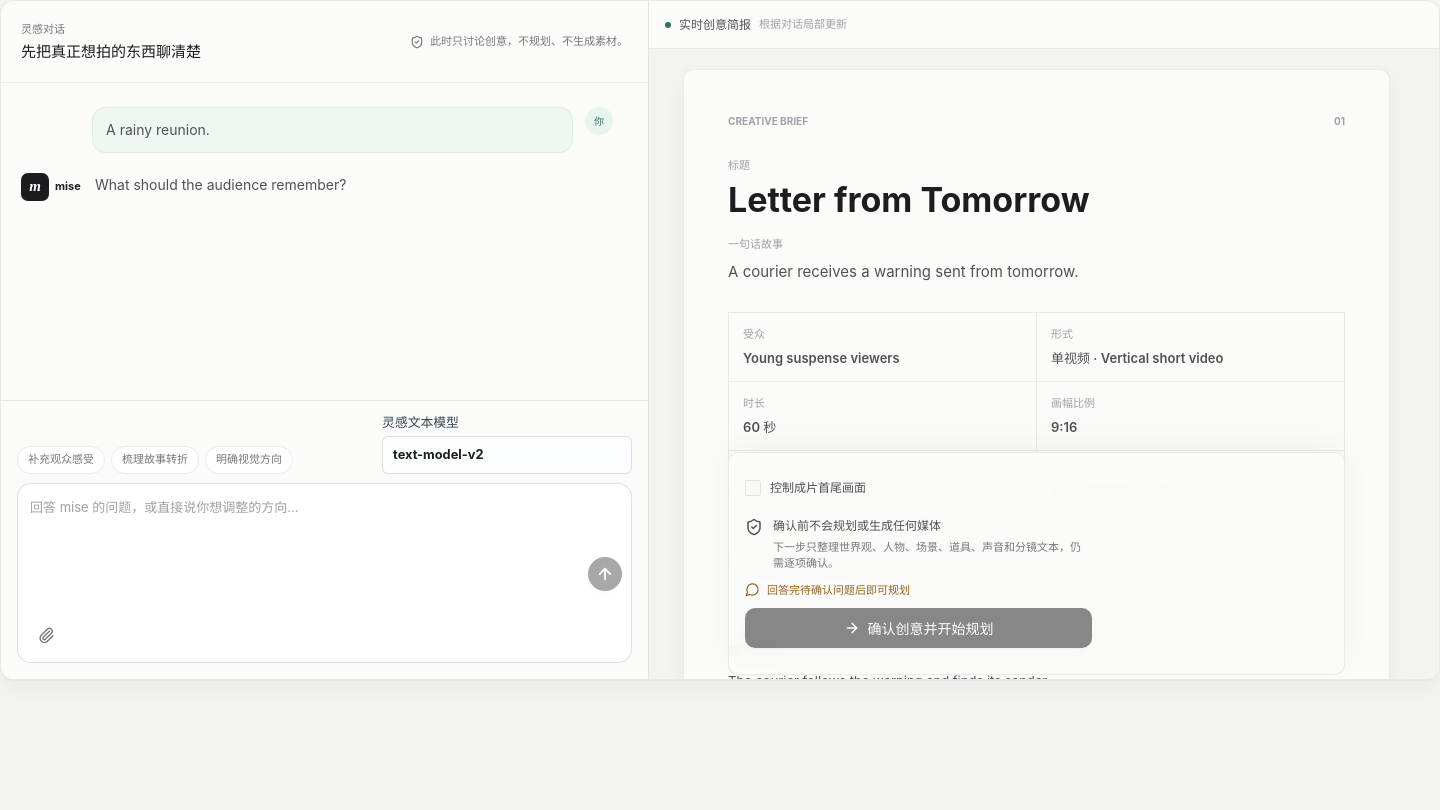
Test: InspirationPage › inserts a submitted user message immediately without invoking planning
Type "Keep the ending restrained." into the text box named "继续补充或调整想法" at (304, 542), box [27,493,580,591]
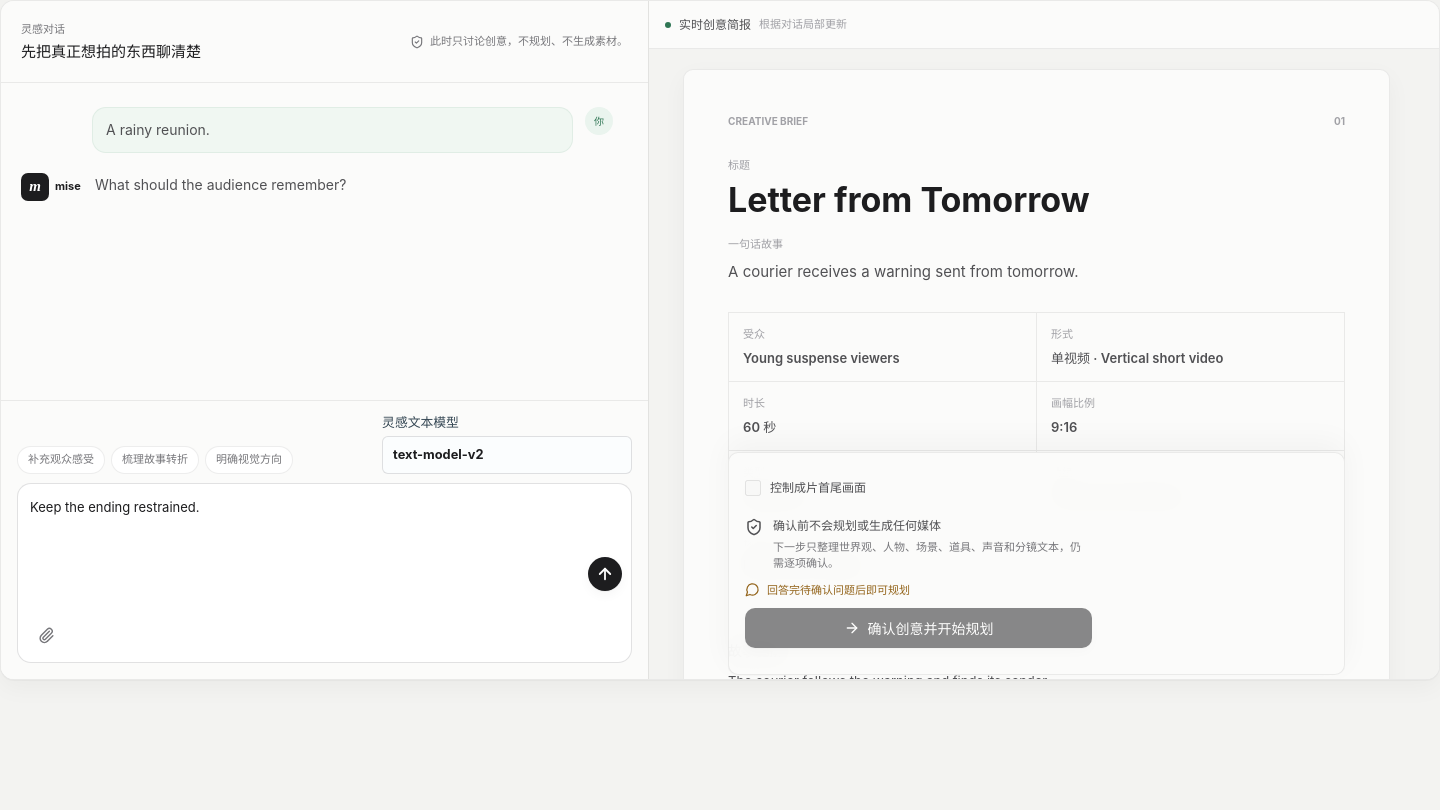
Click the button named "发送消息" at (605, 574), box [588,557,622,591]
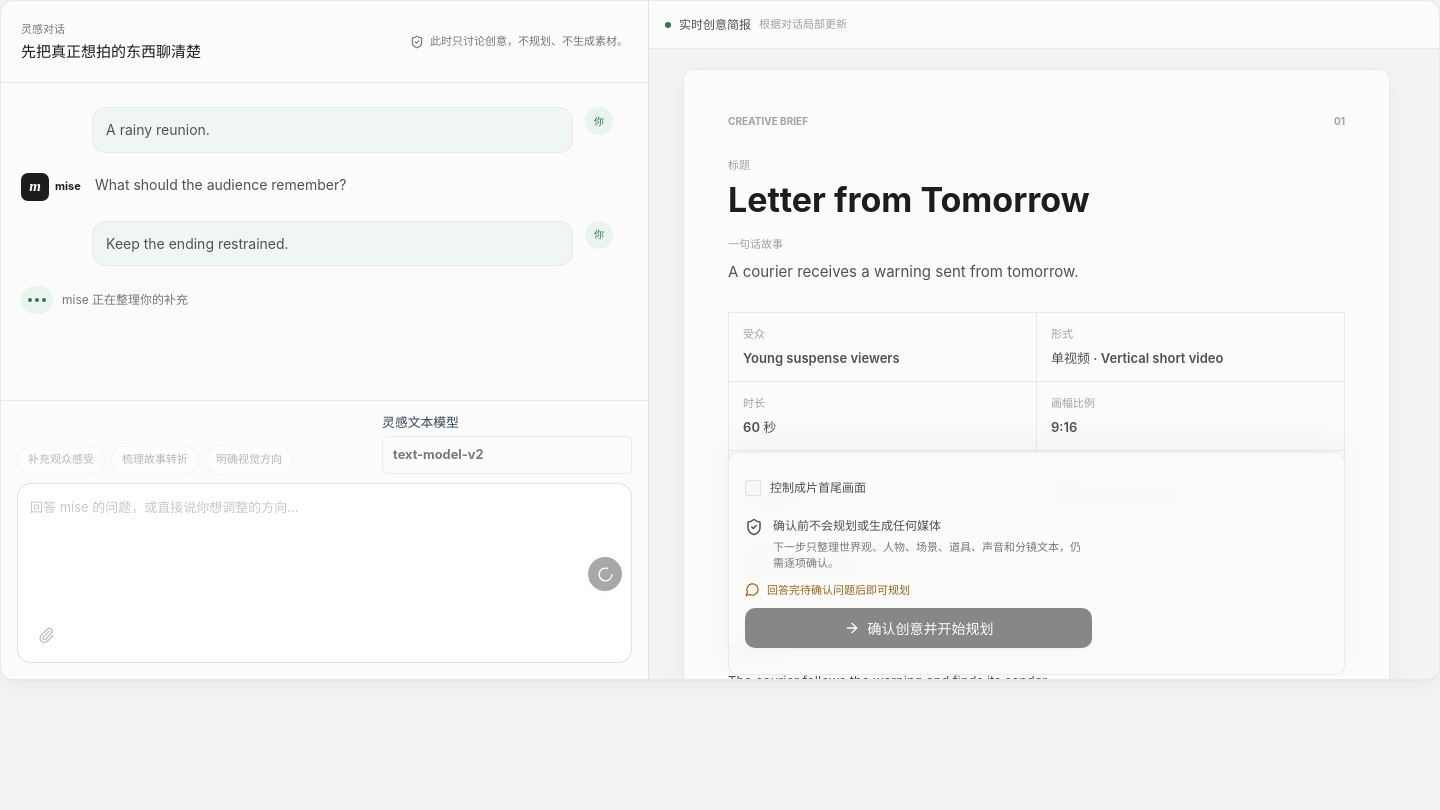
expect the text "Keep the ending restrained." is shown: met, box [92,220,573,266]
expect the text box named "继续补充或调整想法" is empty: met, box [27,493,580,591]
